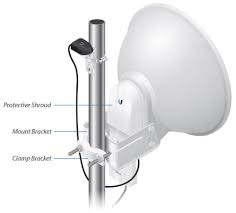ba: (116, 16, 233, 160)
